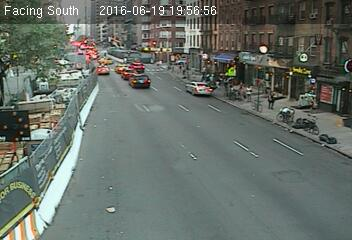neg: (46, 80, 73, 117)
pos: (262, 88, 281, 112)
